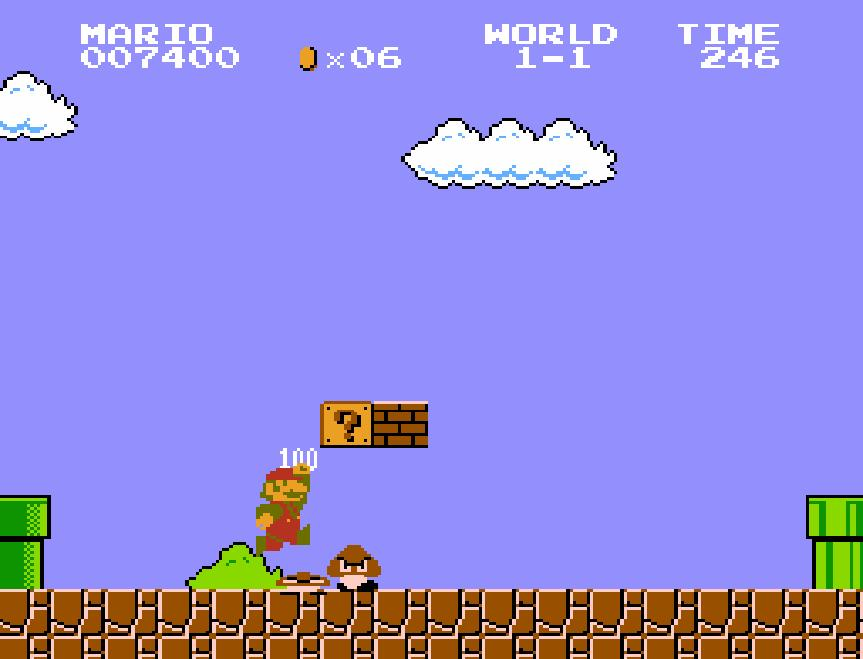big_mario: (254, 461, 312, 559)
